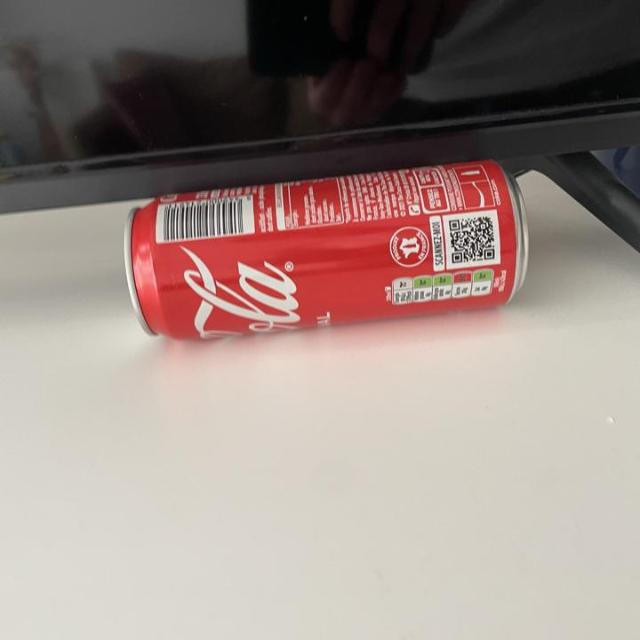can: (112, 157, 538, 349)
